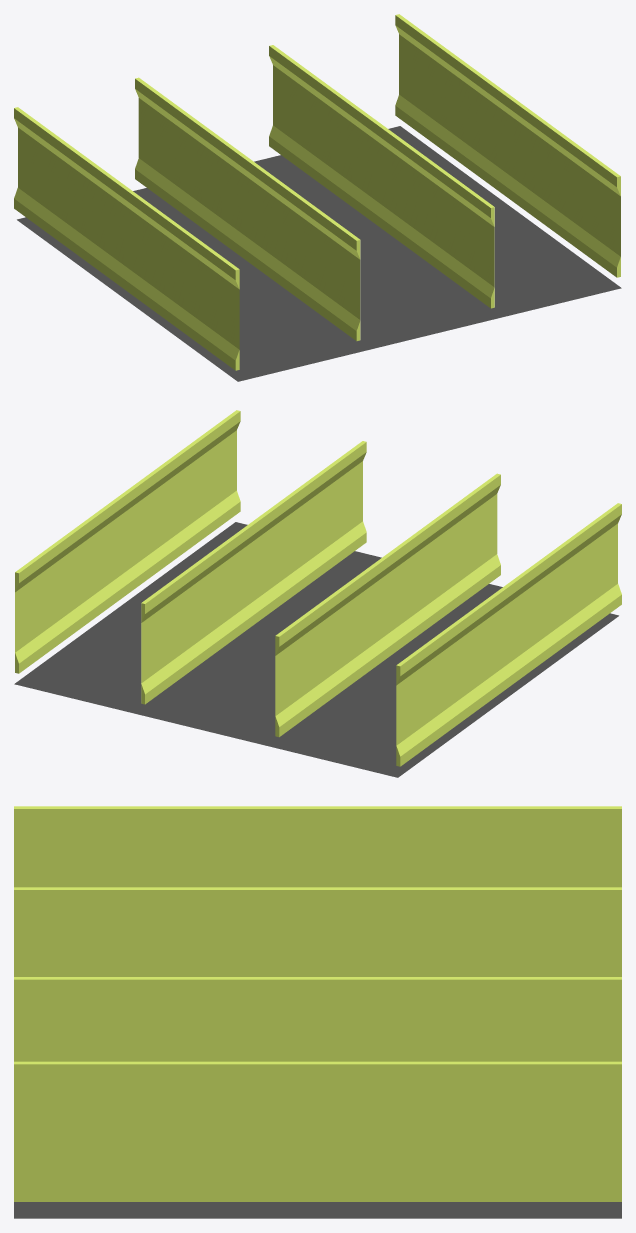
Rendered from Fall.dae.
The picture shows the model from 3 angles, top to bottom: view 1: azimuth 30°, elevation 25°; view 2: azimuth 150°, elevation 25°; view 3: azimuth 270°, elevation 25°; orthographic projection. The views are drawn at different scales.
Visible parts, largest first — view 1: node_ecd3b959_cb42_4572_a2ab_8dfaa1795c59_mesh1, node_ecd3b959_cb42_4572_a2ab_8dfaa1795c59_mesh4, node_ecd3b959_cb42_4572_a2ab_8dfaa1795c59_mesh2, node_ecd3b959_cb42_4572_a2ab_8dfaa1795c59_mesh0, node_ecd3b959_cb42_4572_a2ab_8dfaa1795c59_mesh3; view 2: node_ecd3b959_cb42_4572_a2ab_8dfaa1795c59_mesh1, node_ecd3b959_cb42_4572_a2ab_8dfaa1795c59_mesh4, node_ecd3b959_cb42_4572_a2ab_8dfaa1795c59_mesh2, node_ecd3b959_cb42_4572_a2ab_8dfaa1795c59_mesh0, node_ecd3b959_cb42_4572_a2ab_8dfaa1795c59_mesh3; view 3: node_ecd3b959_cb42_4572_a2ab_8dfaa1795c59_mesh3, node_ecd3b959_cb42_4572_a2ab_8dfaa1795c59_mesh4, node_ecd3b959_cb42_4572_a2ab_8dfaa1795c59_mesh0, node_ecd3b959_cb42_4572_a2ab_8dfaa1795c59_mesh2, node_ecd3b959_cb42_4572_a2ab_8dfaa1795c59_mesh1.
Part boxes in pixels (bbox=[...]): node_ecd3b959_cb42_4572_a2ab_8dfaa1795c59_mesh1: bbox=[17, 126, 621, 381]; node_ecd3b959_cb42_4572_a2ab_8dfaa1795c59_mesh4: bbox=[135, 77, 360, 341]; node_ecd3b959_cb42_4572_a2ab_8dfaa1795c59_mesh2: bbox=[14, 107, 239, 370]; node_ecd3b959_cb42_4572_a2ab_8dfaa1795c59_mesh0: bbox=[269, 45, 494, 308]; node_ecd3b959_cb42_4572_a2ab_8dfaa1795c59_mesh3: bbox=[395, 14, 620, 277]; node_ecd3b959_cb42_4572_a2ab_8dfaa1795c59_mesh1: bbox=[14, 522, 618, 777]; node_ecd3b959_cb42_4572_a2ab_8dfaa1795c59_mesh4: bbox=[275, 473, 500, 737]; node_ecd3b959_cb42_4572_a2ab_8dfaa1795c59_mesh2: bbox=[396, 503, 621, 766]; node_ecd3b959_cb42_4572_a2ab_8dfaa1795c59_mesh0: bbox=[141, 441, 366, 704]; node_ecd3b959_cb42_4572_a2ab_8dfaa1795c59_mesh3: bbox=[15, 410, 240, 673]; node_ecd3b959_cb42_4572_a2ab_8dfaa1795c59_mesh3: bbox=[14, 1061, 621, 1201]; node_ecd3b959_cb42_4572_a2ab_8dfaa1795c59_mesh4: bbox=[14, 887, 621, 976]; node_ecd3b959_cb42_4572_a2ab_8dfaa1795c59_mesh0: bbox=[14, 977, 621, 1061]; node_ecd3b959_cb42_4572_a2ab_8dfaa1795c59_mesh2: bbox=[14, 806, 621, 887]; node_ecd3b959_cb42_4572_a2ab_8dfaa1795c59_mesh1: bbox=[14, 1202, 621, 1218].
Size of the model in its own units: 5030 by 1395 by 5000.
